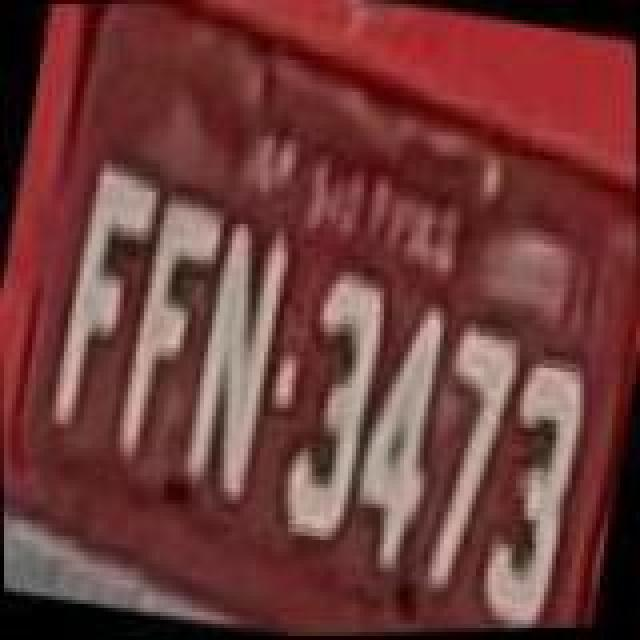3: (266, 260, 394, 548), (470, 352, 594, 632)
4: (342, 300, 462, 576)
7: (406, 318, 526, 594)
F: (40, 154, 168, 442), (104, 192, 232, 472)
N: (172, 214, 300, 506)
